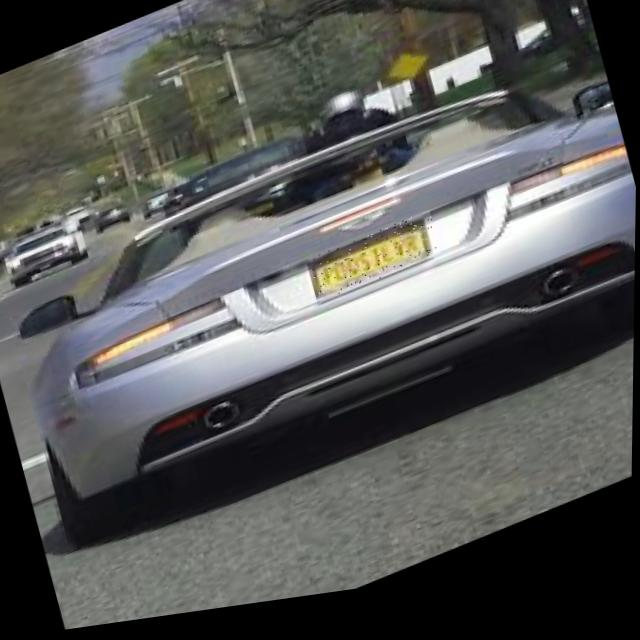license_plate: (309, 221, 442, 313)
